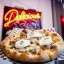pizza: (3, 31, 63, 63)
